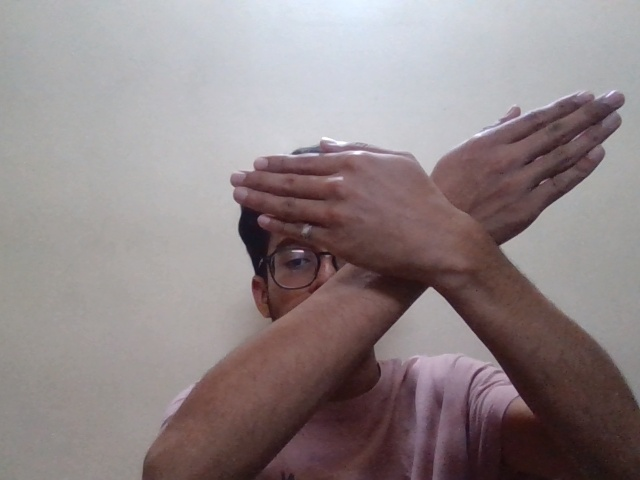feel: (216, 83, 631, 307)
